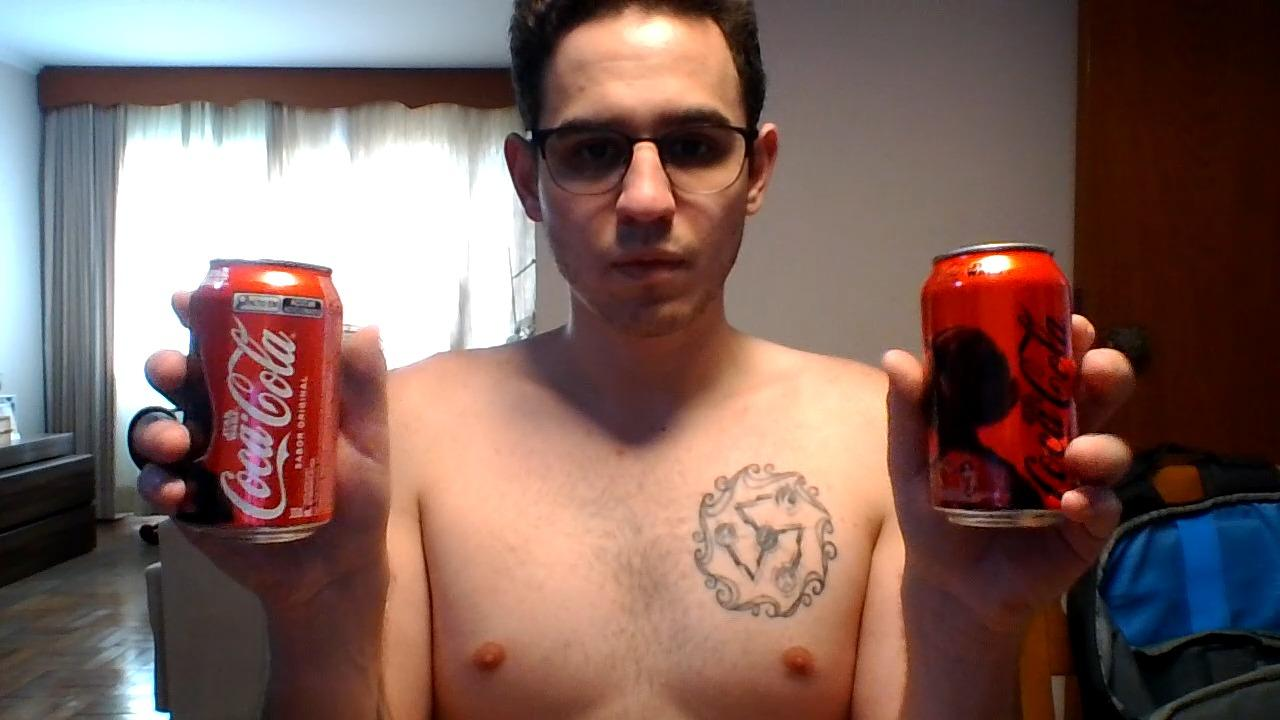coke: (175, 260, 343, 540), (919, 244, 1078, 529)
